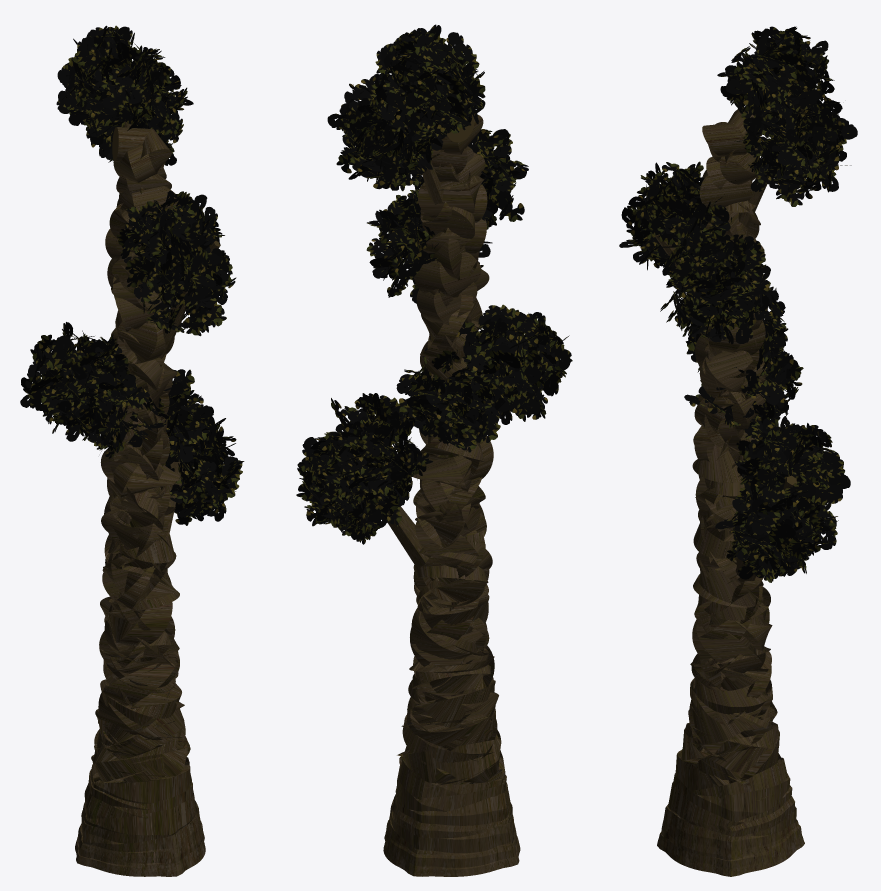
File: deadwood_snag_v03.fbx
3 views of the same model, side by side, from view 1: azimuth 30°, elevation 25°; view 2: azimuth 150°, elevation 25°; view 3: azimuth 270°, elevation 25° (orthographic). The views are drawn at different scales.
Visible parts, largest first — view 1: deadwood_snag_v03; view 2: deadwood_snag_v03; view 3: deadwood_snag_v03.
Part boxes in pixels (<box>): deadwood_snag_v03: <box>20,25,244,876</box>; deadwood_snag_v03: <box>296,24,572,876</box>; deadwood_snag_v03: <box>619,26,857,876</box>.
Size of the model in its own units: 290 by 260 by 930.
2 materials, 2 textured.
